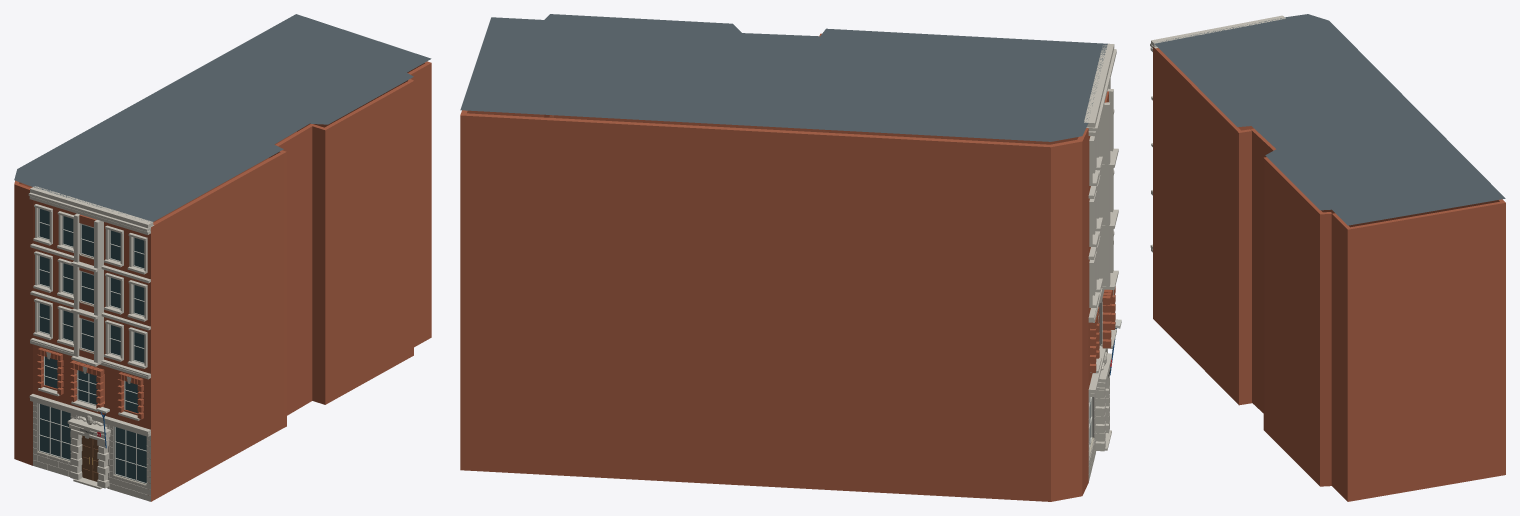
Rendered from ksw-exterior-5bec191f841e.glb.
3 views of the same model, side by side, from view 1: azimuth 30°, elevation 25°; view 2: azimuth 150°, elevation 25°; view 3: azimuth 270°, elevation 25° (orthographic). The views are drawn at different scales.
Visible parts, largest first — view 1: KSW.001; view 2: KSW.001; view 3: KSW.001.
Part boxes in pixels (x1,y1,x2,y2): KSW.001: [14, 14, 431, 501]; KSW.001: [460, 14, 1121, 501]; KSW.001: [1150, 14, 1505, 501].
Size of the model in its own units: 33.77 by 20.55 by 23.99.
